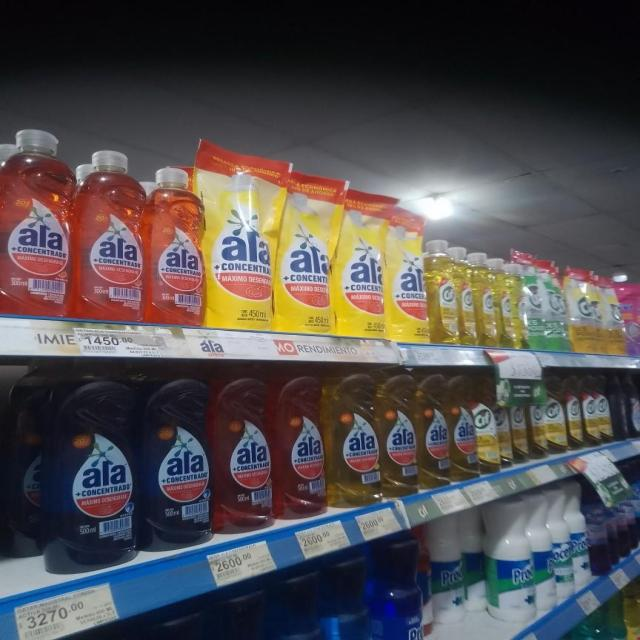ala_conc_amarillo: (326, 365, 378, 508), (379, 368, 417, 498), (418, 371, 449, 490), (450, 372, 476, 482)
ala_conc_azul: (3, 358, 137, 572), (140, 360, 210, 550)
ala_conc_rojo: (0, 125, 73, 318), (75, 149, 144, 322), (212, 362, 273, 533), (146, 164, 204, 325), (274, 363, 326, 520)
ala_sachet_amarillo: (206, 169, 273, 330), (276, 173, 332, 334), (334, 190, 384, 338), (385, 213, 427, 342)
cif_conc_bot_amarilla: (429, 242, 458, 345), (476, 375, 499, 476), (583, 374, 606, 447), (458, 248, 475, 346), (545, 376, 565, 456), (566, 374, 582, 450)
